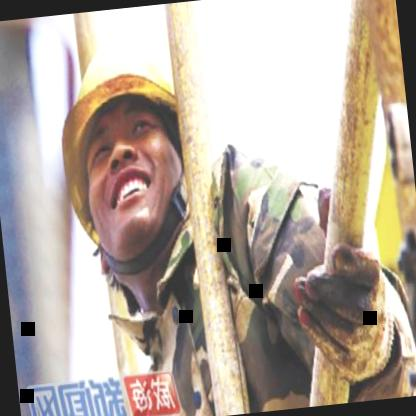helmet: (40, 16, 210, 292)
